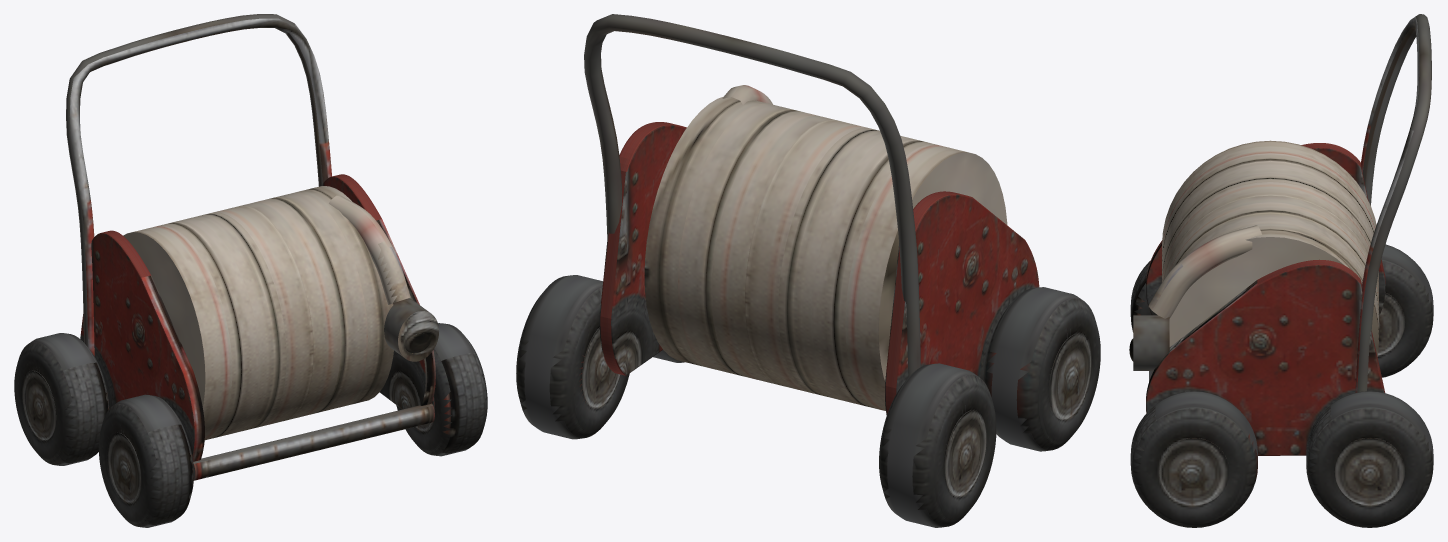
The model's file is hose-cart.glb.
The picture shows the model from 3 angles, left to right: view 1: azimuth 30°, elevation 25°; view 2: azimuth 150°, elevation 25°; view 3: azimuth 270°, elevation 25°; orthographic projection. The views are drawn at different scales.
Visible parts, largest first — view 1: woven-hose (×7), tire (×3), side-cheek (×2), bent-push-handle, front-tie-bar, hub (×2), hose-tail, outlet-coupling; view 2: woven-hose (×7), tire (×3), side-cheek (×2), bent-push-handle, hub (×3); view 3: side-cheek (×2), tire (×4), woven-hose (×7), hub (×3), bent-push-handle, hose-tail, outlet-coupling.
Boxes of the visible parts, x1,y1,x2,y2 form: woven-hose (×7): (123,186,393,440); tire (×3): (14,323,487,527); side-cheek (×2): (80,174,435,461); bent-push-handle: (66,14,331,355); front-tie-bar: (193,403,434,480); hub (×2): (22,371,140,501); hose-tail: (329,195,410,304); outlet-coupling: (384,298,439,361); woven-hose (×7): (644,96,1007,410); tire (×3): (516,275,1100,527); side-cheek (×2): (599,122,1039,415); bent-push-handle: (584,14,920,377); hub (×3): (582,327,1090,495); side-cheek (×2): (1146,143,1385,455); tire (×4): (1130,244,1433,527); woven-hose (×7): (1162,140,1378,356); hub (×3): (1159,293,1404,505); bent-push-handle: (1355,14,1431,392); hose-tail: (1148,225,1261,318); outlet-coupling: (1133,315,1169,370).
Size of the model in its own units: 0.7874 by 0.8324 by 0.5887.
5 materials, 5 textured.
